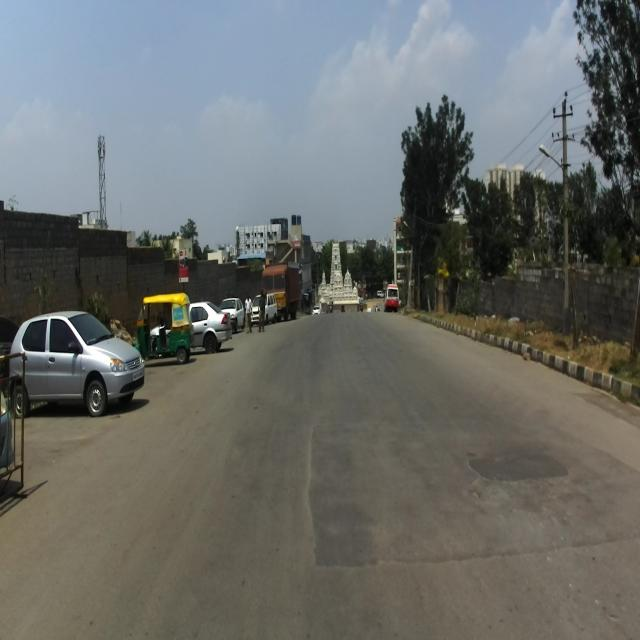autorickshaw: (131, 292, 195, 364)
car: (9, 309, 146, 418), (260, 264, 304, 322), (217, 296, 247, 330)
mini-bus: (383, 280, 400, 314)
